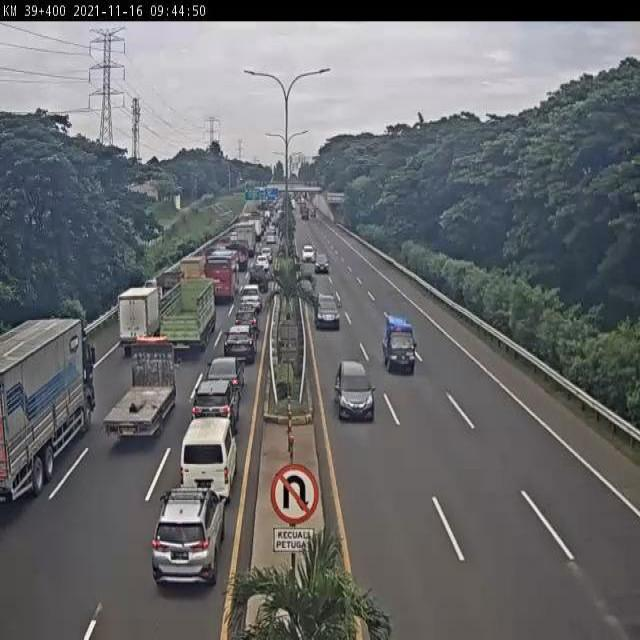big bus: (202, 250, 240, 306)
car: (150, 492, 222, 588), (331, 356, 376, 427), (188, 382, 236, 447), (380, 315, 417, 372), (205, 355, 246, 396), (223, 327, 255, 365), (313, 290, 342, 330), (232, 308, 259, 335), (236, 288, 261, 316), (315, 250, 331, 274)
small bus: (183, 419, 238, 500)
small truck: (175, 253, 204, 296)
truck-l-: (0, 318, 93, 526), (157, 275, 218, 356)
truck-m-: (105, 348, 177, 444), (117, 285, 163, 355), (153, 270, 184, 298)
